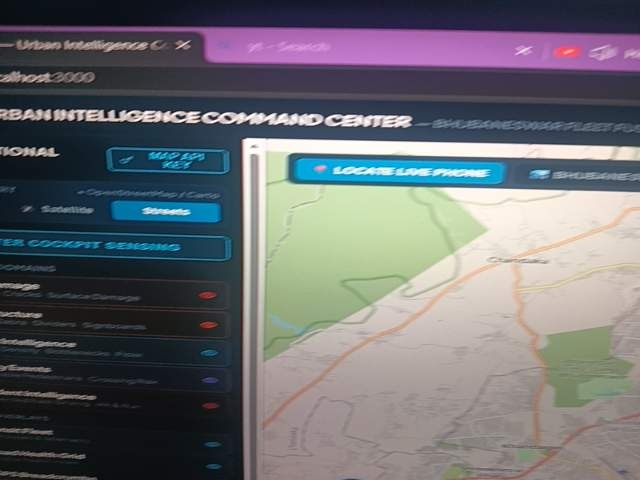pothole: (109, 403, 327, 480)
